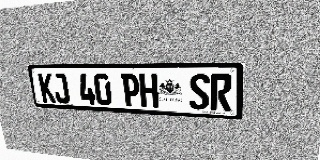0: (93, 73, 112, 106)
4: (77, 73, 96, 105)
H: (139, 73, 159, 108)
J: (52, 73, 70, 104)
K: (38, 73, 56, 103)
P: (121, 73, 141, 107)
R: (210, 74, 233, 111)
S: (189, 74, 210, 110)
